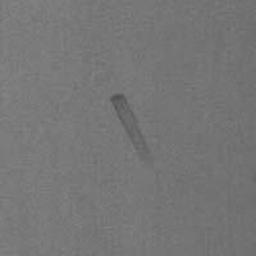Oil spot: (108, 91, 156, 169)
